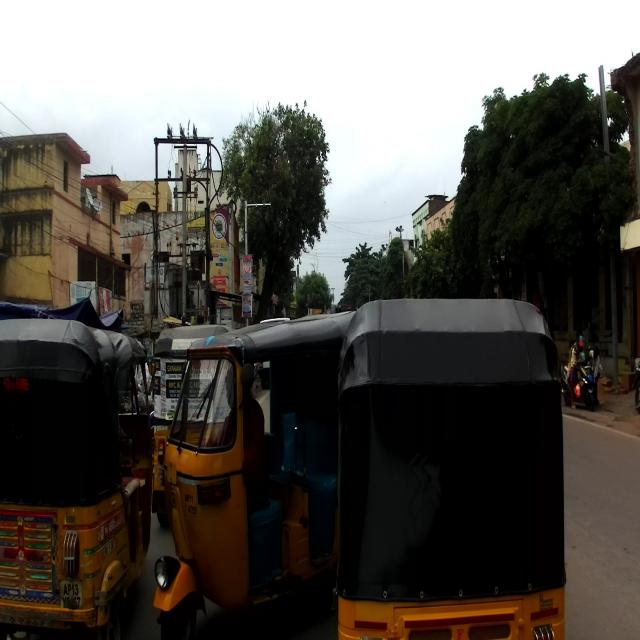autorickshaw: (326, 296, 567, 640), (152, 306, 357, 639), (0, 316, 155, 639), (146, 324, 239, 528)
scooter: (562, 354, 596, 412)
